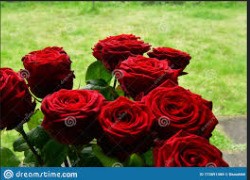RedRose: (41, 87, 101, 145), (102, 96, 158, 149), (20, 44, 81, 89), (91, 29, 153, 65)
